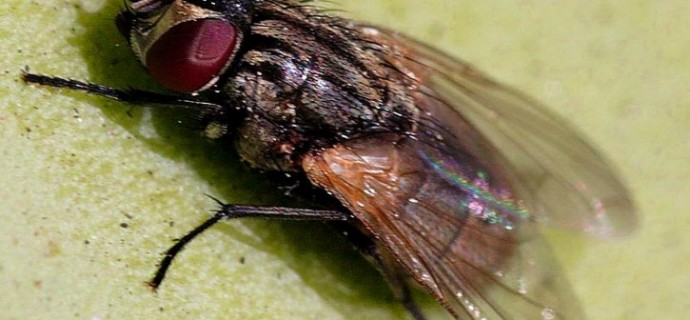fly: (21, 2, 644, 320)
